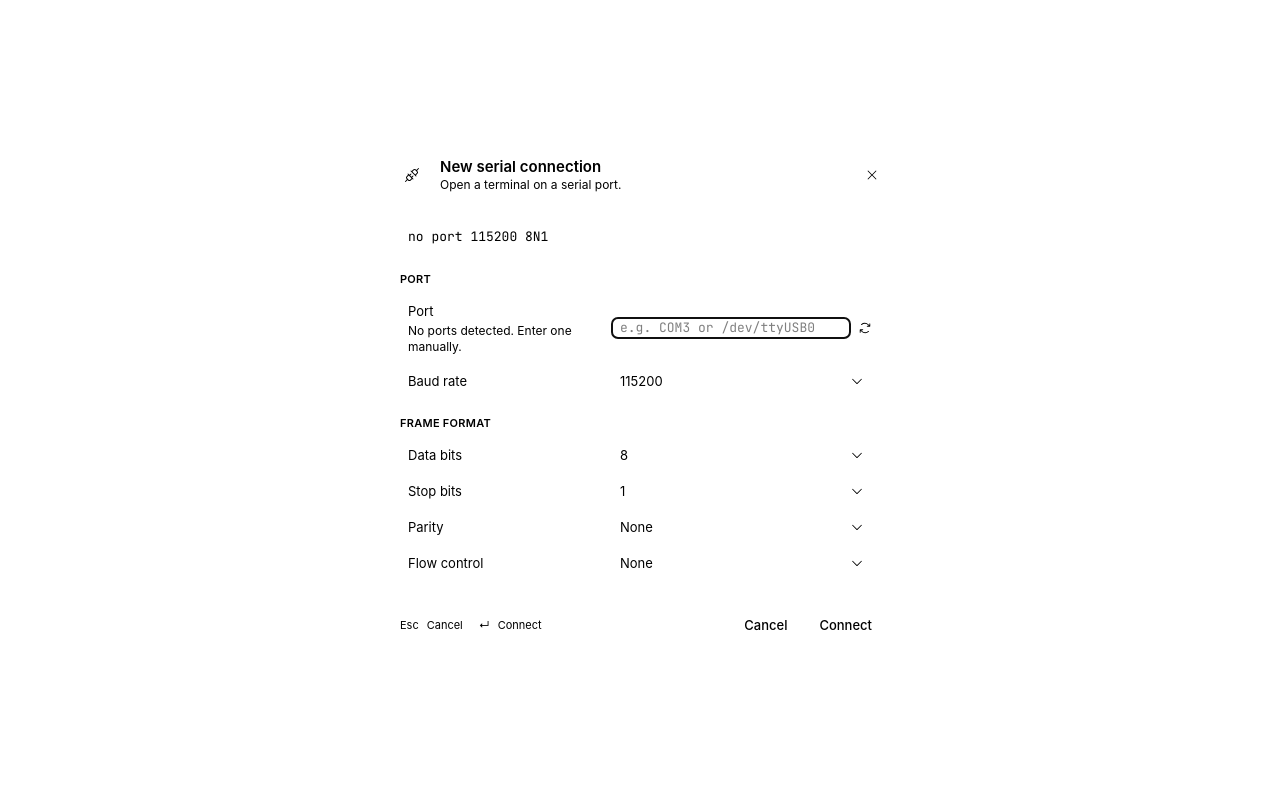
Test case: SerialDialog › re-reads the ports from the refresh button
Expected: the field labelled "Port" is shown, [612,318,850,338]
Click the button named "Refresh ports" at (865, 328), box [858,321,872,335]
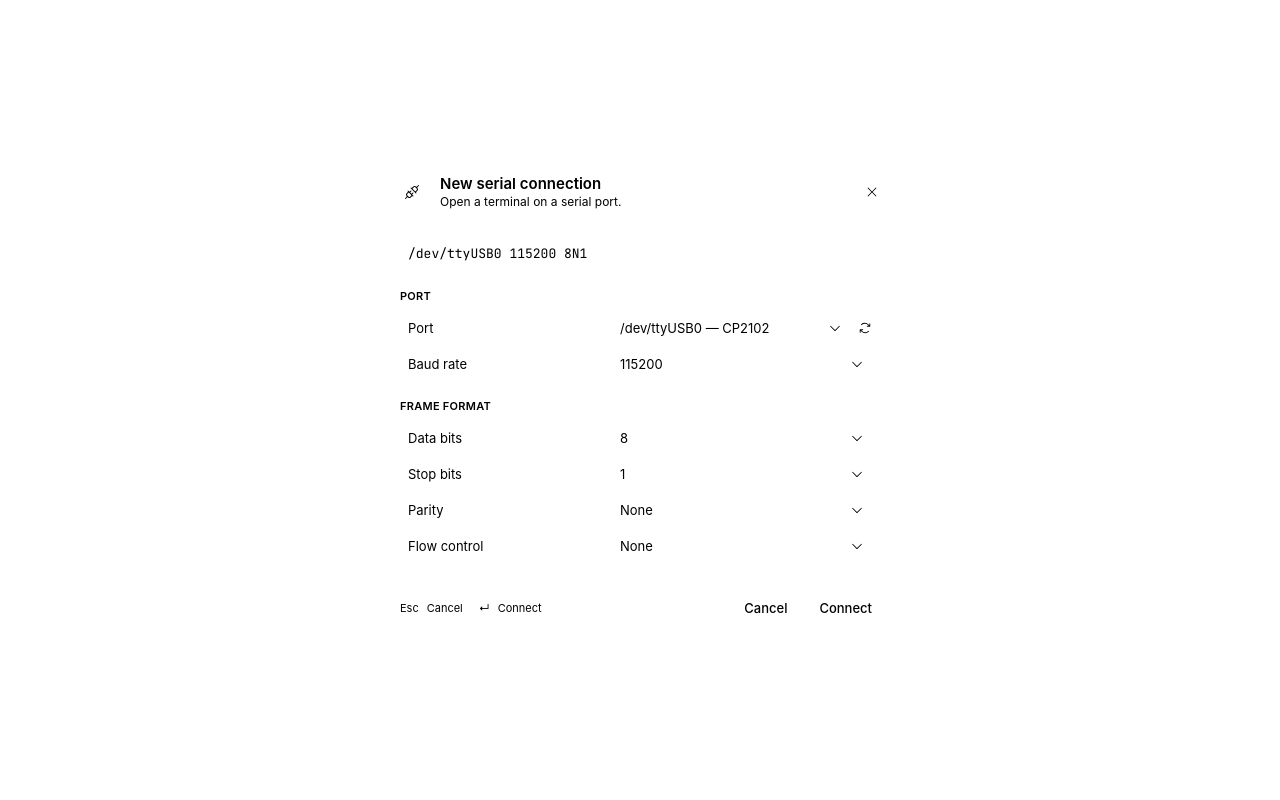
Now the dropdown named "Port" shows "/dev/ttyUSB0", box [612,318,850,338]
